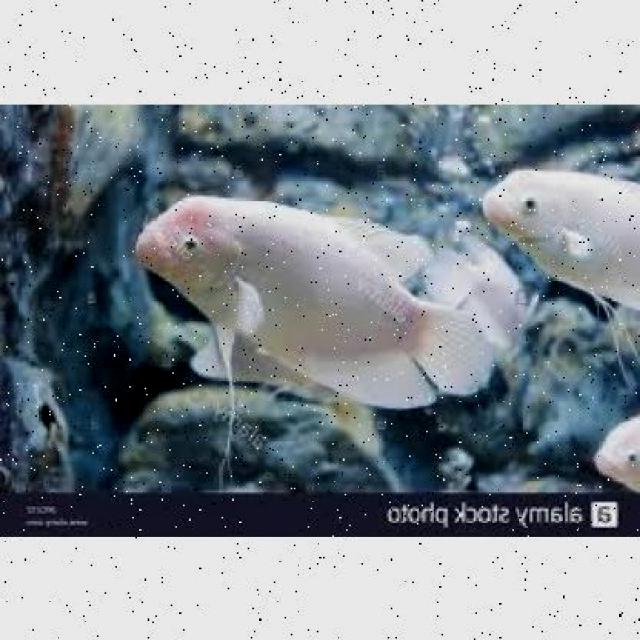gurame: (132, 190, 483, 401), (483, 162, 640, 304)
